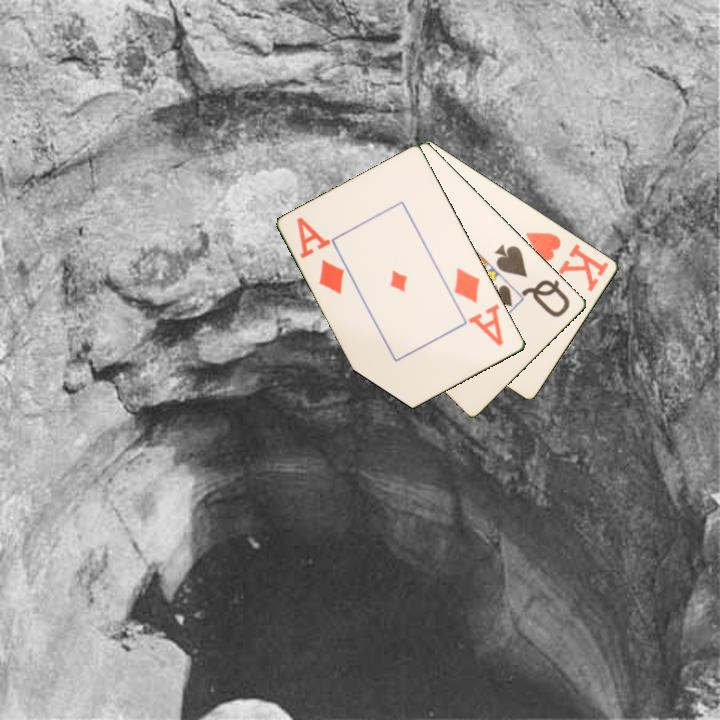Ad: (451, 264, 507, 349), (293, 213, 348, 298)
Kh: (522, 228, 612, 295)
Qs: (492, 240, 573, 320)
